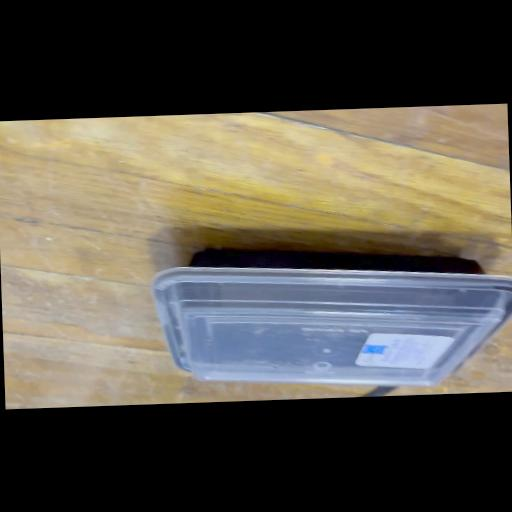rigid_plastic_container: (147, 235, 512, 398)
